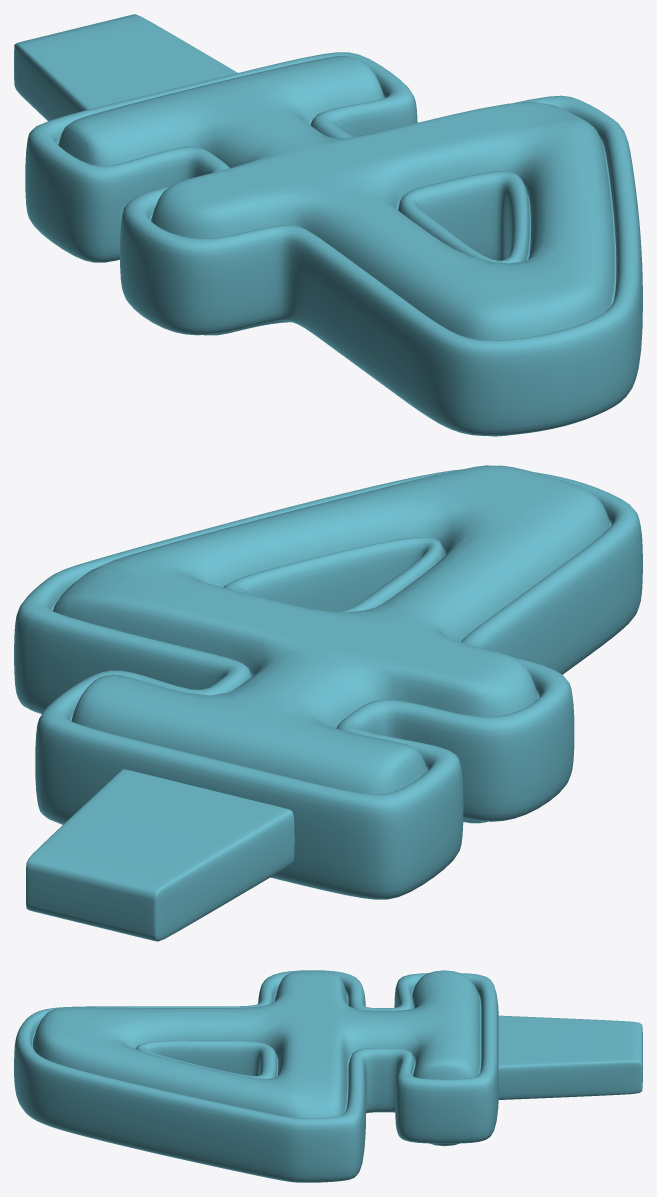
3 renders of one model, top to bottom at view 1: azimuth 30°, elevation 25°; view 2: azimuth 150°, elevation 25°; view 3: azimuth 270°, elevation 25°, orthographic. The views are drawn at different scales.
Parts seen in each view (by area): view 1: _Number_4_v1:_Number_4_v1; view 2: _Number_4_v1:_Number_4_v1; view 3: _Number_4_v1:_Number_4_v1.
Boxes of the visible parts, bbox=[...] form: _Number_4_v1:_Number_4_v1: bbox=[14, 14, 642, 436]; _Number_4_v1:_Number_4_v1: bbox=[14, 465, 642, 941]; _Number_4_v1:_Number_4_v1: bbox=[14, 970, 642, 1182].
Bounding box in the file's own units: 7.67 × 2 × 13.01.
